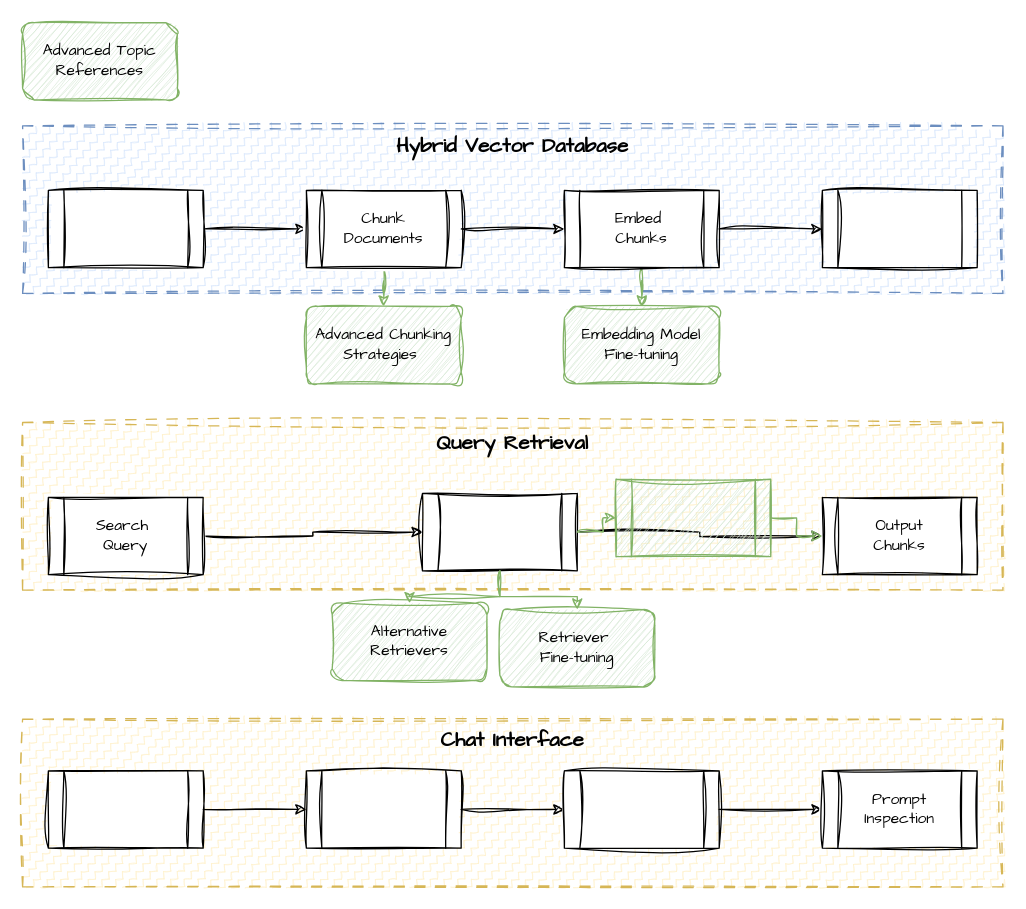
This 1026x909 diagram has some shape labels left out. The shapes that lost their labels are listed below. From the top down, each one's centre as x and y in pixels, then its label:
At pixel 125 228: "Extract Metadata".
At pixel 899 228: "Setup Chroma DB".
At pixel 499 531: "Similarity Retrieval".
At pixel 693 517: "Reranker".
At pixel 125 808: "Setup Chat App".
At pixel 383 808: "App Launch".
At pixel 641 808: "Test Run App".
